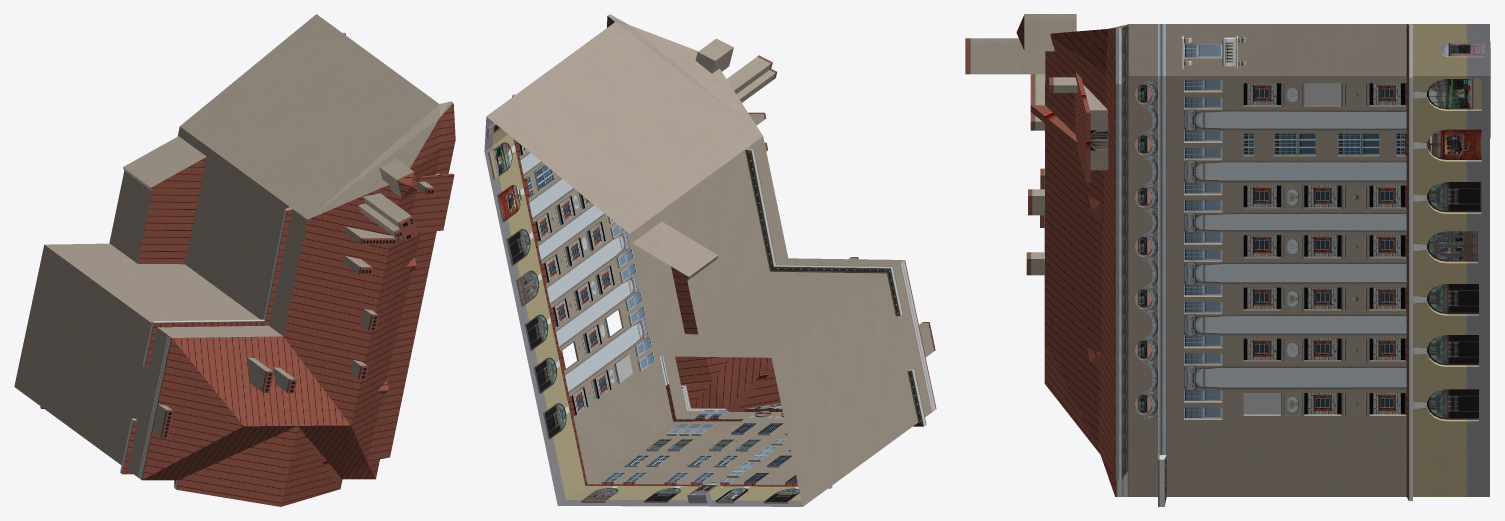
The model's file is Vabaduse_valjak_2a.obj.
The picture shows the model from 3 angles, left to right: view 1: azimuth 30°, elevation 25°; view 2: azimuth 150°, elevation 25°; view 3: azimuth 270°, elevation 25°; orthographic projection. The views are drawn at different scales.
Parts seen in each view (by area): view 1: Vabaduke_valjak_2a; view 2: Vabaduke_valjak_2a; view 3: Vabaduke_valjak_2a.
Boxes of the visible parts, x1=… form: Vabaduke_valjak_2a: x1=14, y1=14, x2=455, y2=506; Vabaduke_valjak_2a: x1=484, y1=14, x2=936, y2=506; Vabaduke_valjak_2a: x1=965, y1=14, x2=1490, y2=506.
Size of the model in its own units: 32.46 by 35.27 by 31.52.
